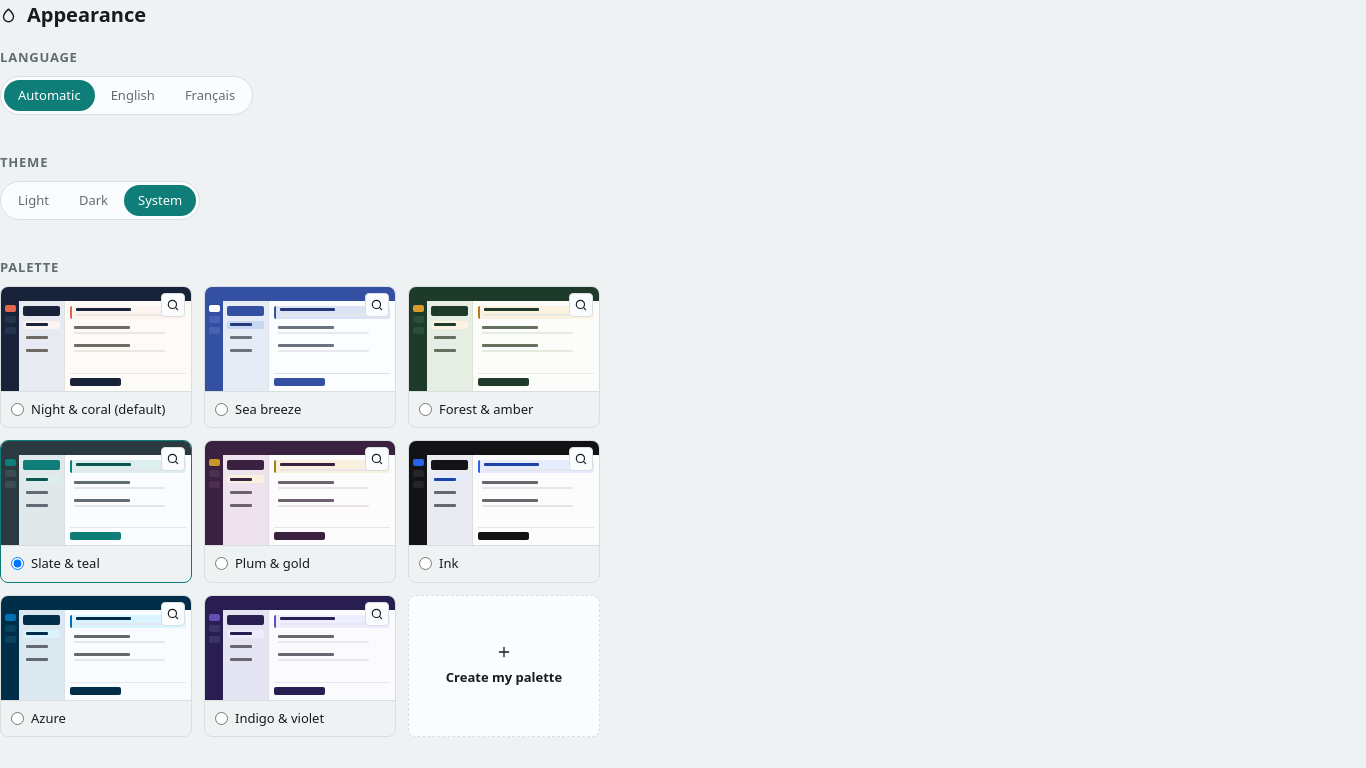
Test case: AppearancePage — my palette › starts from Slate with accent buttons, as Slate wears them
Step 1. Click the button "Create my palette" → (504, 666), box [408, 594, 600, 737]
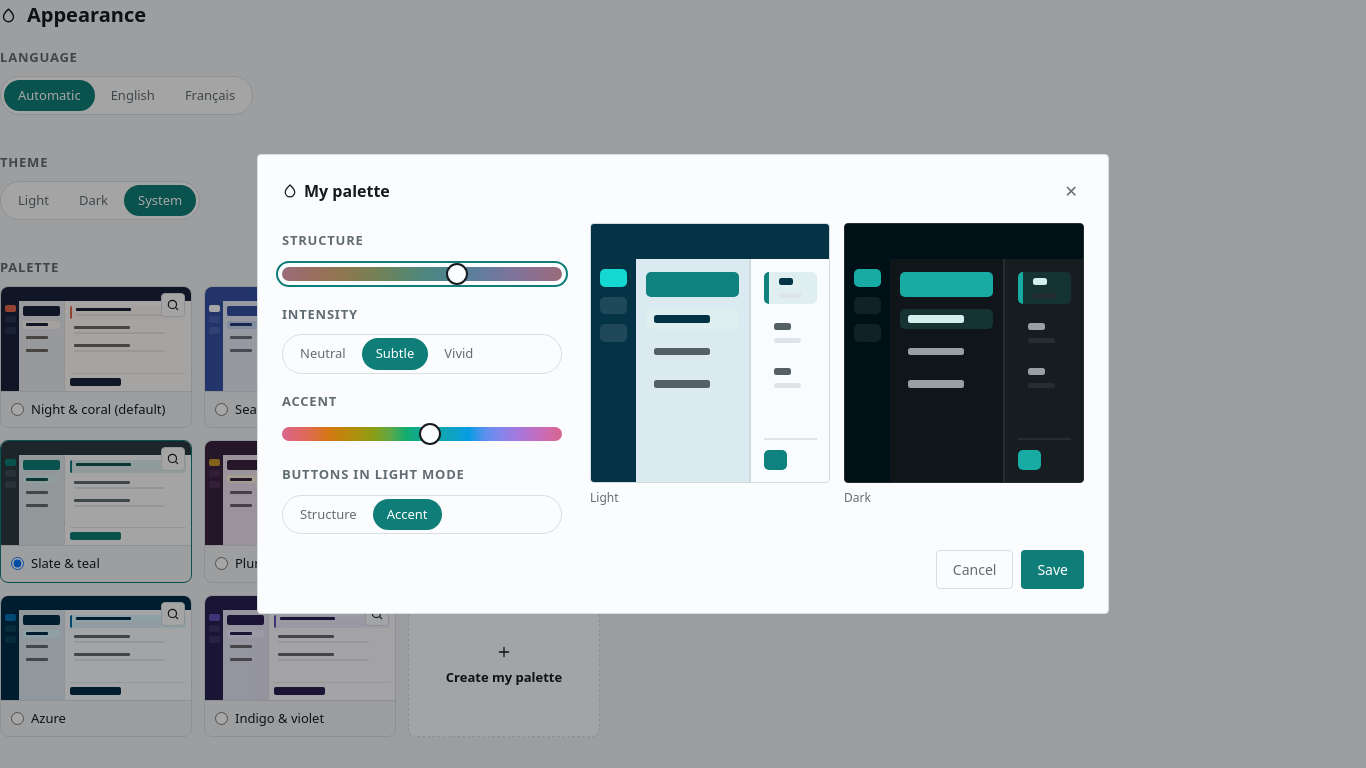
Result: the radio button labelled "Accent" is checked at [373, 498, 442, 530]
